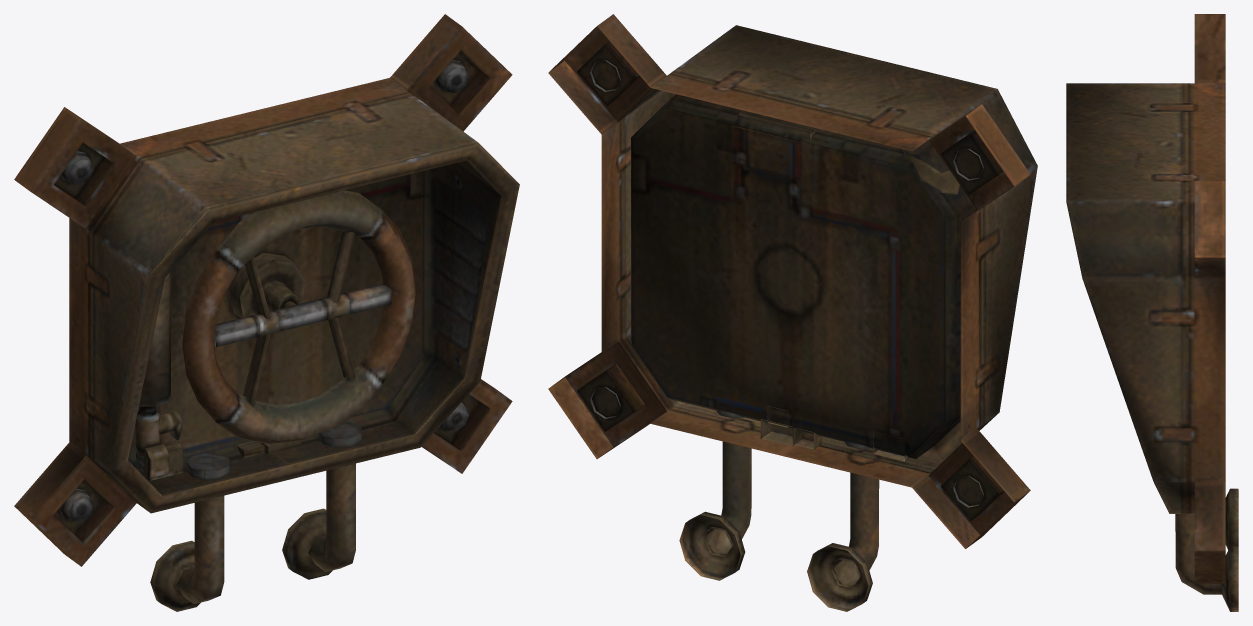
Rendered from airlock_wheel_combined.dae.
3 views of the same model, side by side, from view 1: azimuth 30°, elevation 25°; view 2: azimuth 150°, elevation 25°; view 3: azimuth 270°, elevation 25° (orthographic). The views are drawn at different scales.
Parts seen in each view (by area): view 1: airlock_wheel_base, airlock_wheel_wheel; view 2: airlock_wheel_base; view 3: airlock_wheel_base.
Part boxes in pixels (box(x1,y1,x2,y2)): airlock_wheel_base: box(14, 14, 519, 611); airlock_wheel_wheel: box(182, 190, 415, 444); airlock_wheel_base: box(548, 14, 1037, 611); airlock_wheel_base: box(1066, 14, 1238, 611).
Size of the model in its own units: 0.5471 by 0.1887 by 0.581.
